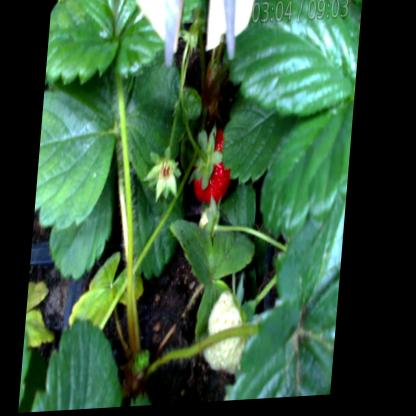ripe: (191, 127, 244, 203)
unripe: (200, 287, 258, 381)
